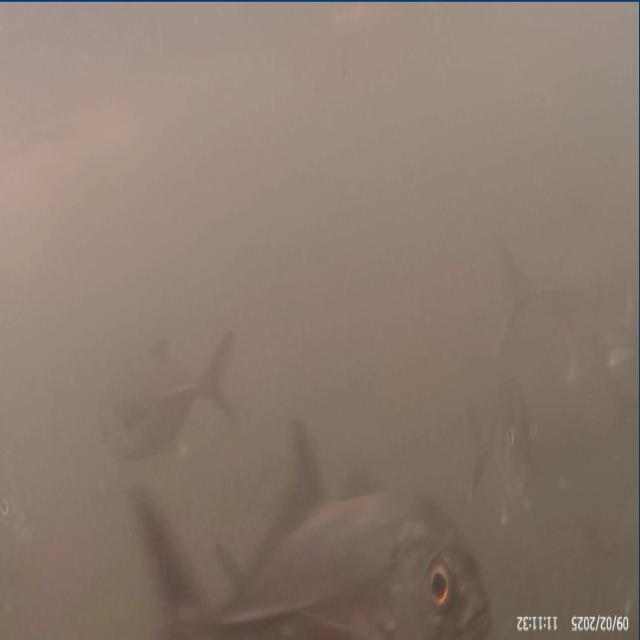ikan: (148, 479, 522, 638), (107, 302, 246, 449)
